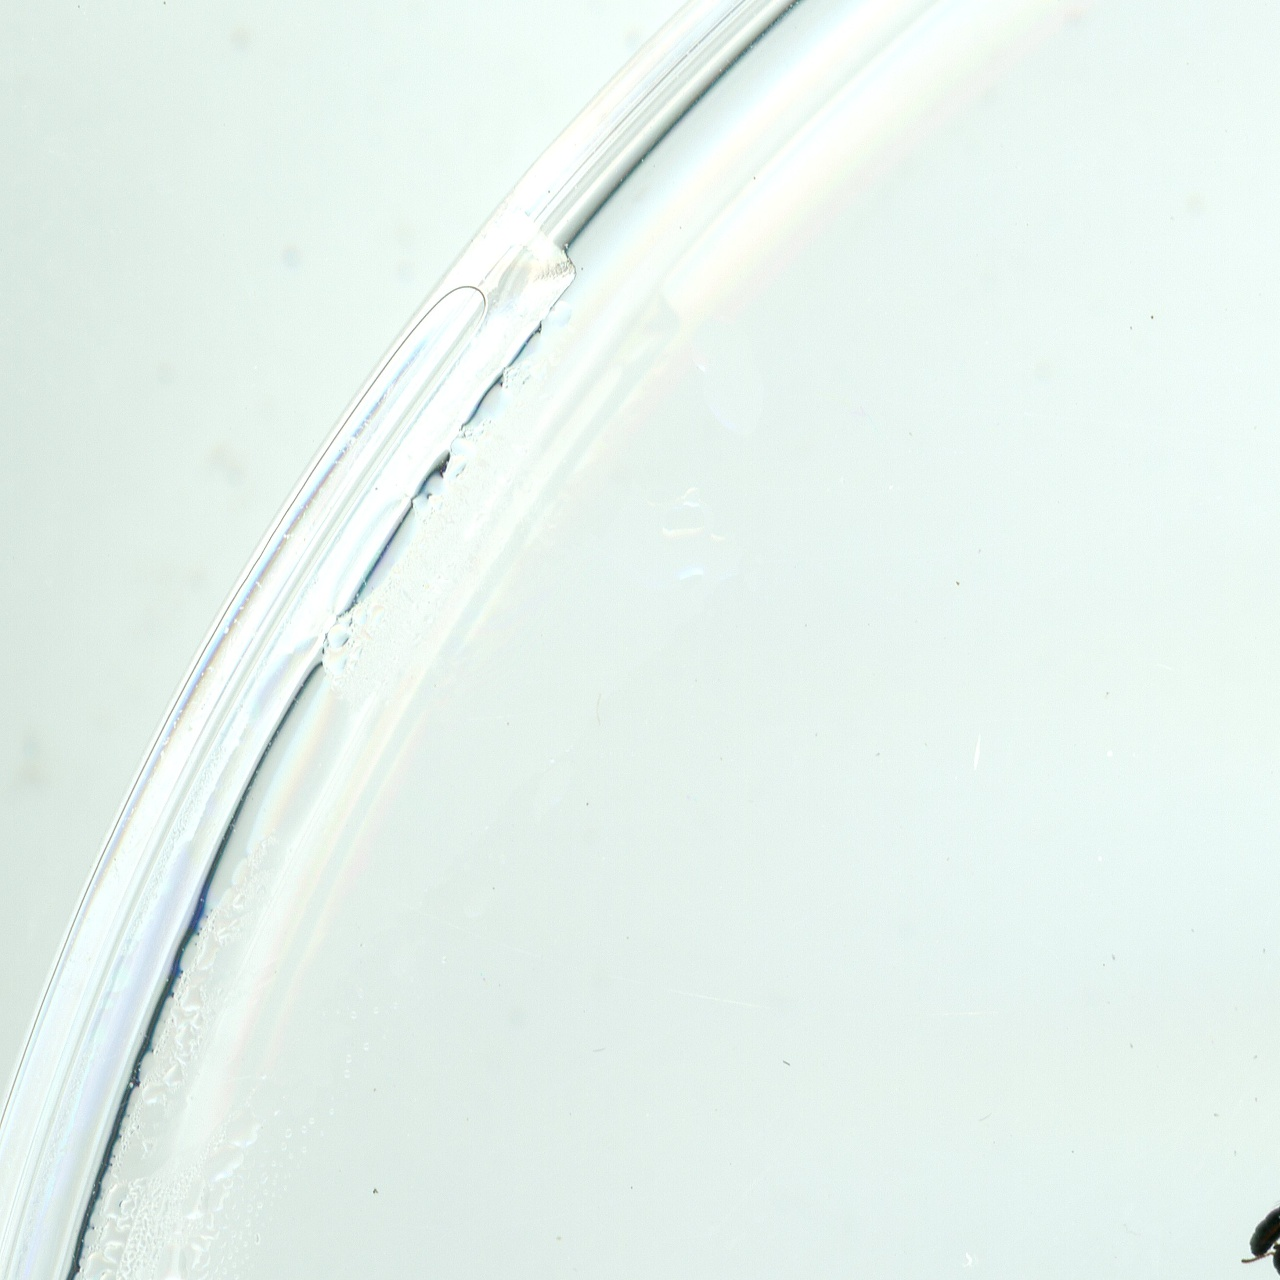arthropod: (1242, 1190, 1280, 1265)
